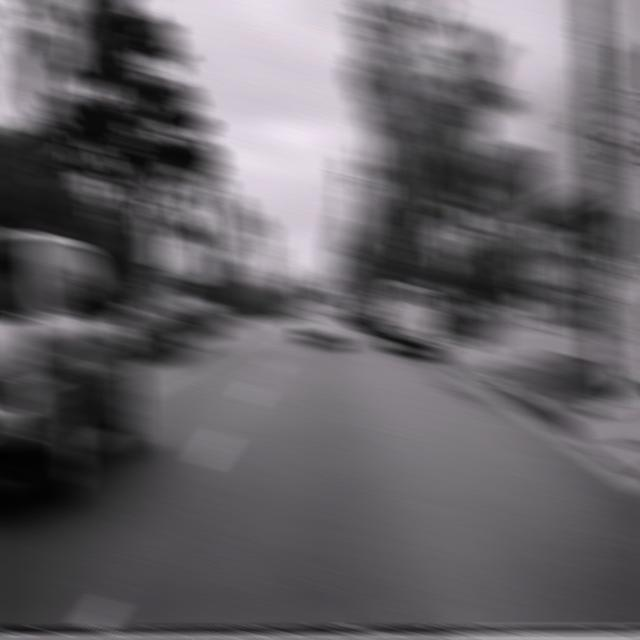speedLimit35: (593, 93, 639, 174)
